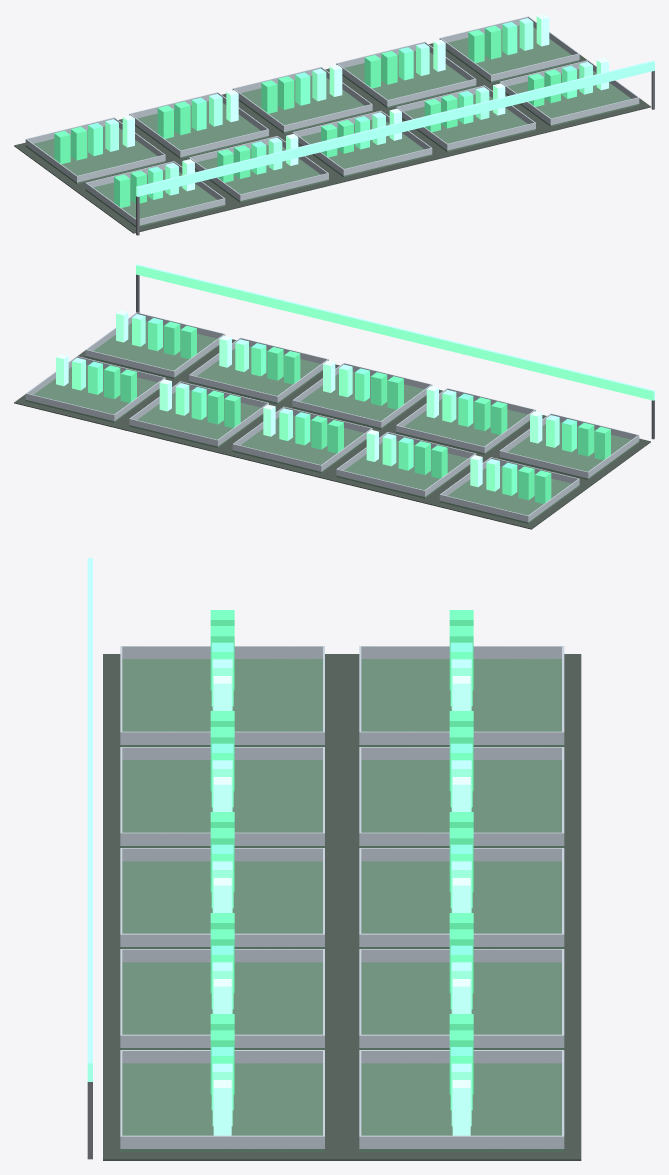
Rendered from pack-global-health-os.glb.
3 views of the same model, one above another, from view 1: azimuth 30°, elevation 25°; view 2: azimuth 150°, elevation 25°; view 3: azimuth 270°, elevation 25° (orthographic). The views are drawn at different scales.
Parts seen in each view (by area): view 1: Cognition.X : Global Health OS; view 2: Cognition.X : Global Health OS; view 3: Cognition.X : Global Health OS.
Boxes of the visible parts, <box> form: Cognition.X : Global Health OS: <box>14,14,654,235</box>; Cognition.X : Global Health OS: <box>14,264,654,529</box>; Cognition.X : Global Health OS: <box>87,558,581,1160</box>.
Bounding box in the file's own units: 70 × 6.3 × 28.9.
